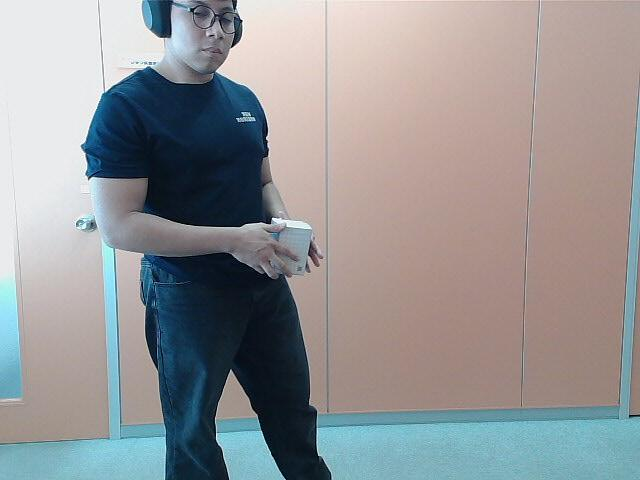Blind_box: (268, 212, 316, 279)
